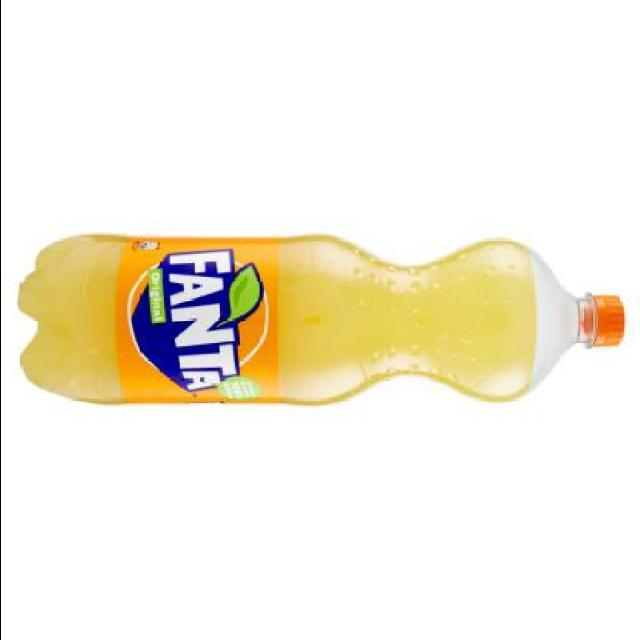Fanta: (21, 228, 625, 410)
